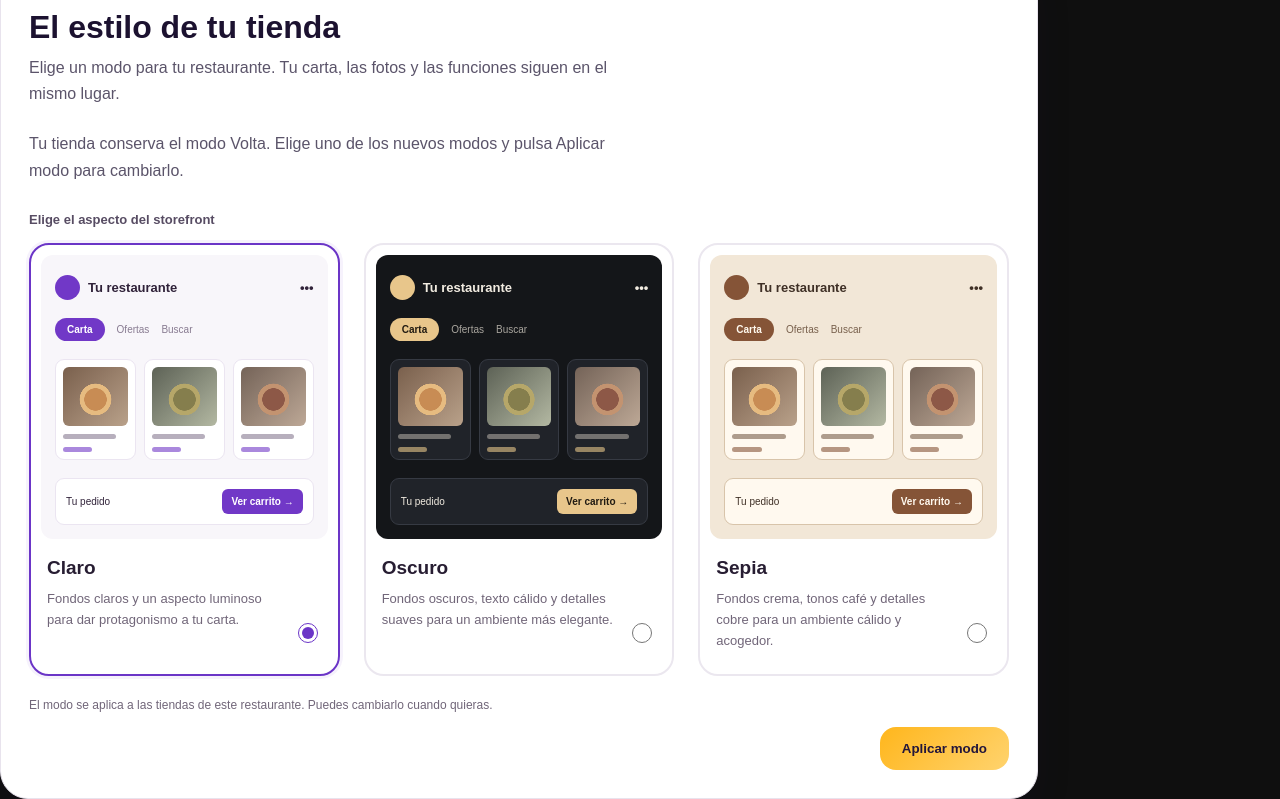
Test case: legacy Volta stays applied until the owner explicitly applies a new mode
(page scrolled)
Expected: the radio button labelled "Claro" is checked, [298, 622, 318, 642]
Expected: the text "Tu tienda conserva el modo Volta" is shown, [29, 135, 605, 179]
Click the button "Aplicar modo" at point(944, 748), box [880, 727, 1009, 770]
(page scrolled)
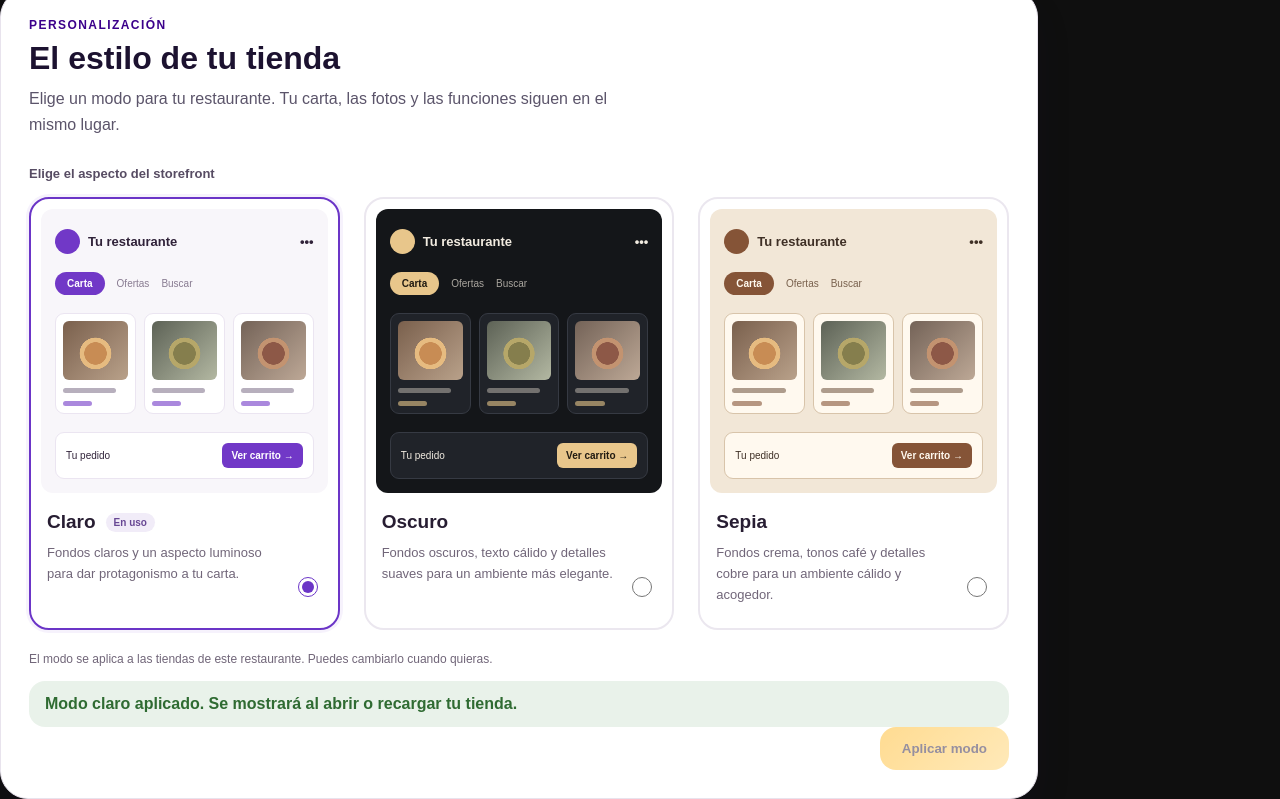
Expected: the text "En uso" shows "Claro", [47, 511, 96, 532]
Now the message shows "Modo claro aplicado", box [45, 695, 517, 712]
